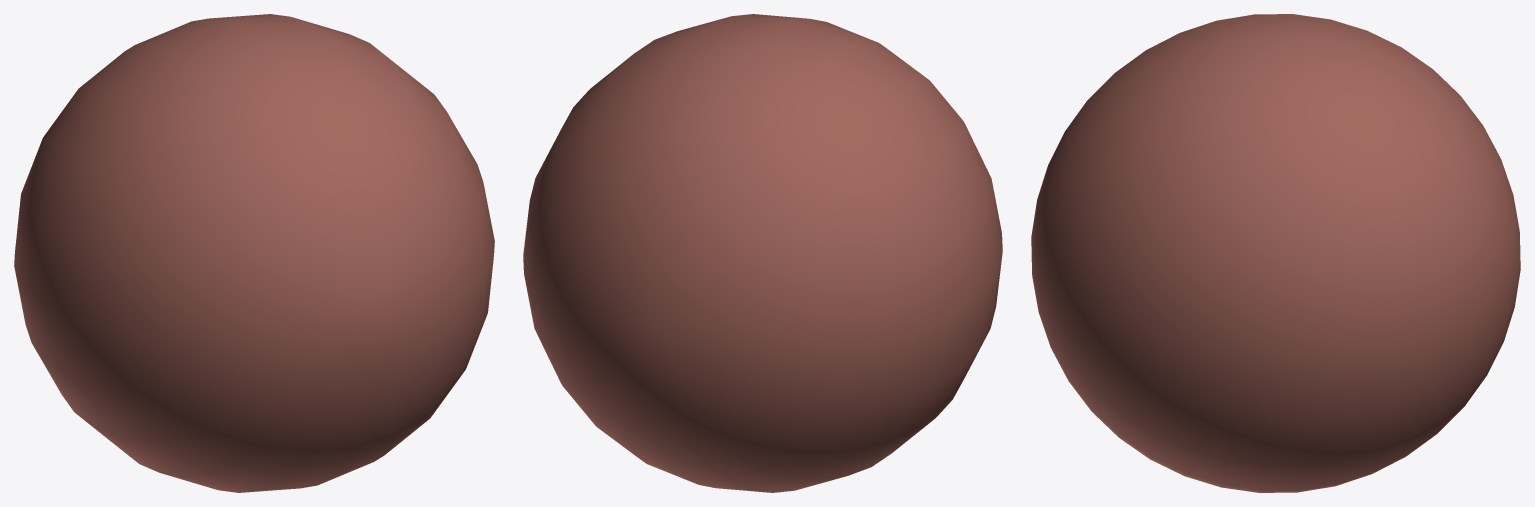
File: mixamo_humanoid_joint_leftUeg.fbx
The picture shows the model from 3 angles, left to right: view 1: azimuth 30°, elevation 25°; view 2: azimuth 150°, elevation 25°; view 3: azimuth 270°, elevation 25°; orthographic projection.
Visible parts, largest first — view 1: joint_LeftLeg; view 2: joint_LeftLeg; view 3: joint_LeftLeg.
Boxes of the visible parts, x1,y1,x2,y2 form: joint_LeftLeg: [14, 14, 494, 492]; joint_LeftLeg: [523, 14, 1002, 492]; joint_LeftLeg: [1031, 14, 1520, 492].
Bounding box in the file's own units: 12.22 × 12.18 × 12.36.
